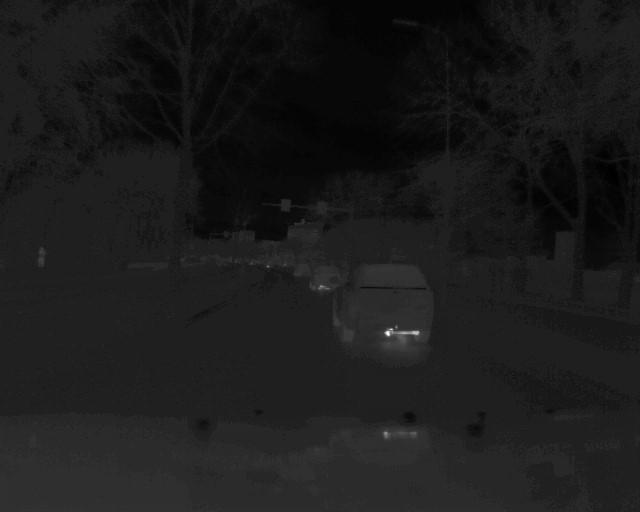car: (333, 264, 435, 343), (307, 262, 338, 296)
